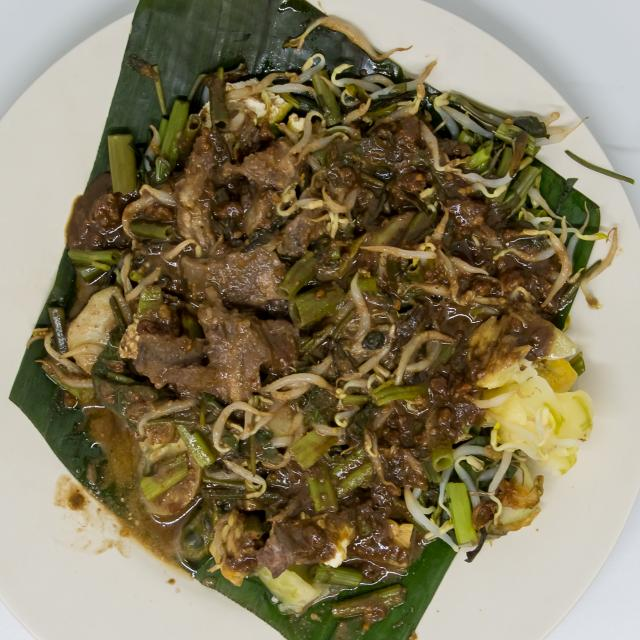Rujak-Cingur: (47, 61, 595, 606)
